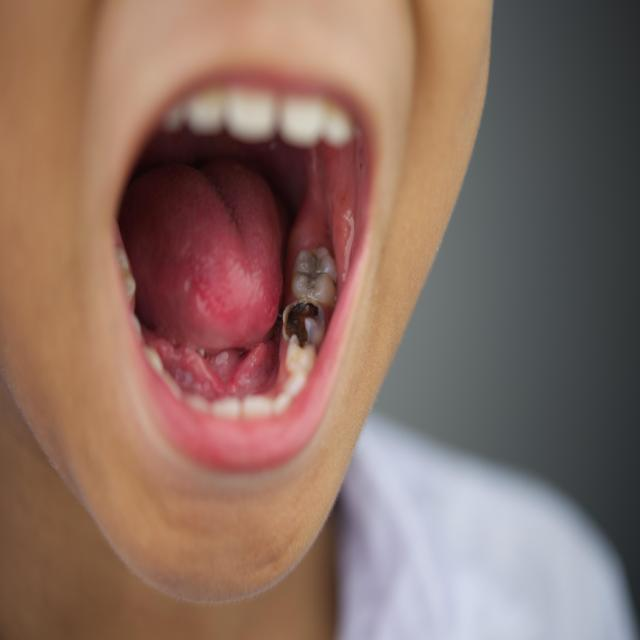Caries: (285, 302, 318, 347)
Cavity: (283, 297, 324, 346)
Tooth: (291, 245, 337, 306), (282, 297, 326, 347)
